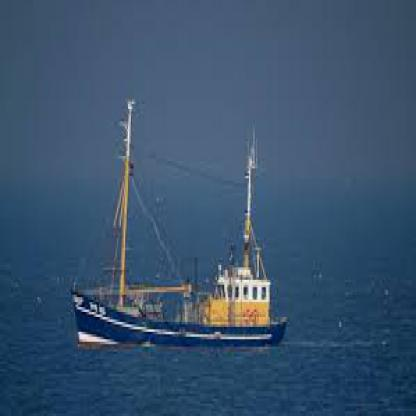fish-b: (60, 87, 293, 357)
